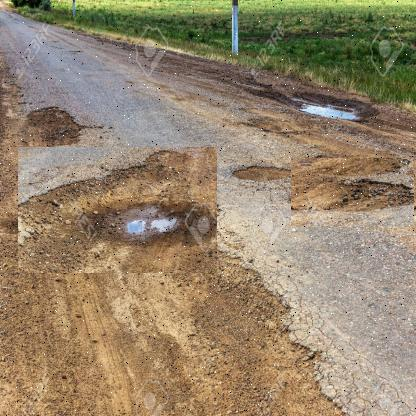damage: (18, 147, 218, 274)
pothole: (292, 158, 416, 227), (226, 145, 301, 201)
